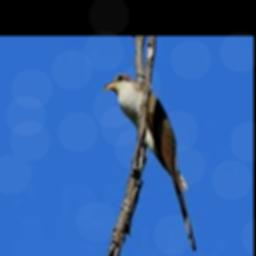Cuckoo: (103, 71, 196, 251)
